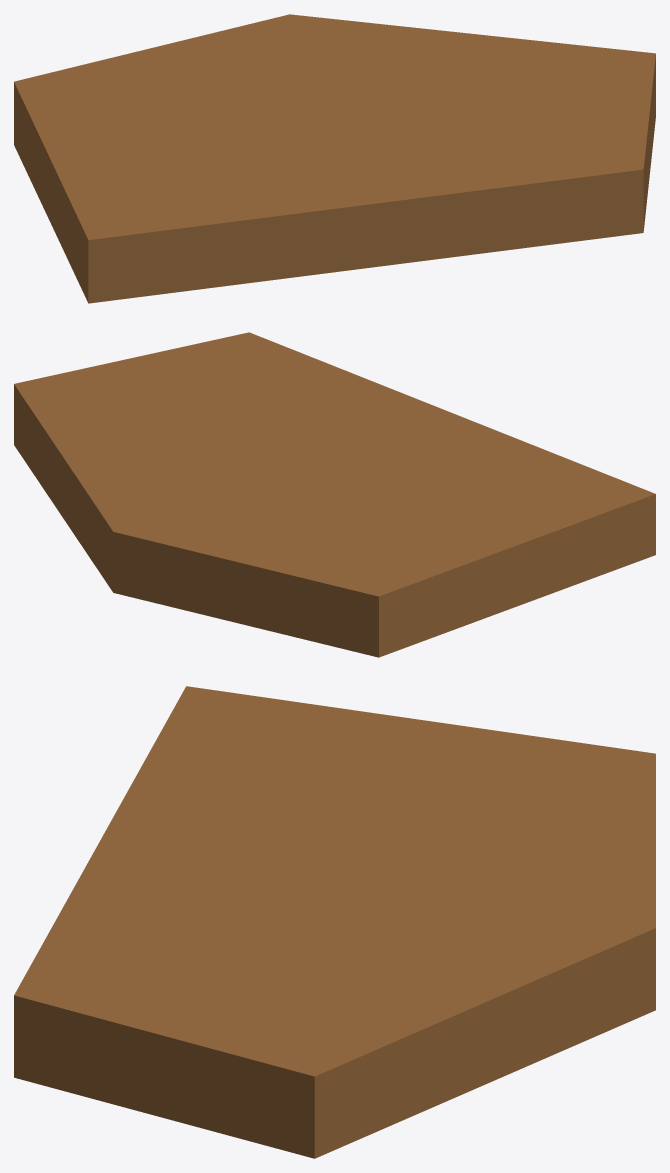
The model's file is x_proval_00_250_1_rmstrd.fbx.
3 views of the same model, one above another, from view 1: azimuth 30°, elevation 25°; view 2: azimuth 150°, elevation 25°; view 3: azimuth 270°, elevation 25° (orthographic). The views are drawn at different scales.
Parts seen in each view (by area): view 1: x_proval_00_250_1_rmstrd1; view 2: x_proval_00_250_1_rmstrd1; view 3: x_proval_00_250_1_rmstrd1.
Part boxes in pixels (x1,y1,x2,y2): x_proval_00_250_1_rmstrd1: (14,14,655,303); x_proval_00_250_1_rmstrd1: (14,332,655,657); x_proval_00_250_1_rmstrd1: (14,686,655,1158).
Size of the model in its own units: 2.04 by 0.2 by 1.42.
